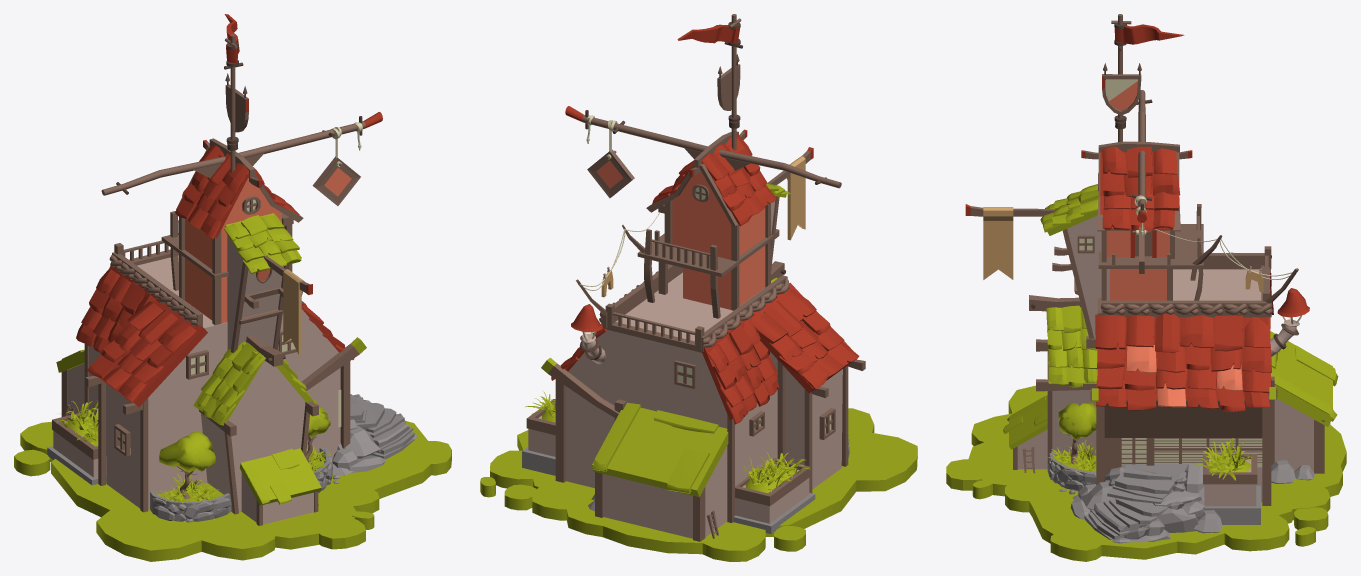
File: house.glb
3 views of the same model, side by side, from view 1: azimuth 30°, elevation 25°; view 2: azimuth 150°, elevation 25°; view 3: azimuth 270°, elevation 25° (orthographic).
Parts seen in each view (by area): view 1: curve9; view 2: curve9; view 3: curve9.
Boxes of the visible parts, x1,y1,x2,y2 form: curve9: (14, 14, 451, 561); curve9: (480, 14, 917, 561); curve9: (946, 14, 1346, 561).
Size of the model in its own units: 0.2199 by 0.2745 by 0.2206.
